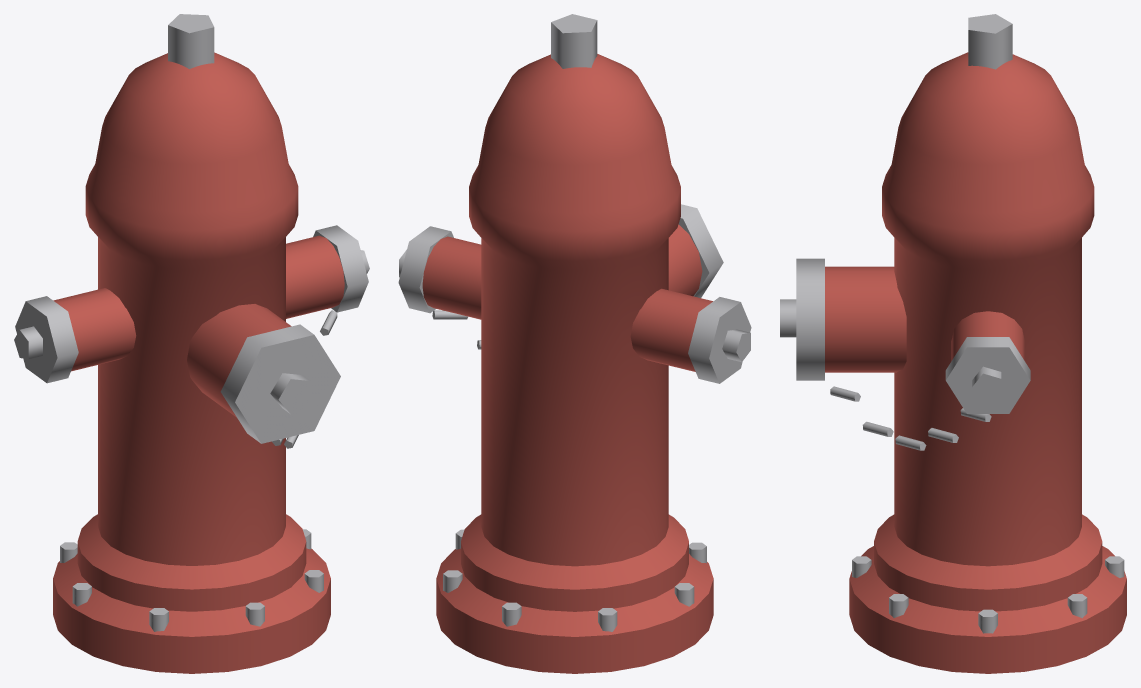
File: hydrant.glb
3 renders of one model, left to right at view 1: azimuth 30°, elevation 25°; view 2: azimuth 150°, elevation 25°; view 3: azimuth 270°, elevation 25°, orthographic.
Visible parts, largest first — view 1: hydrant; view 2: hydrant; view 3: hydrant.
Part boxes in pixels (x1,y1,x2,y2): hydrant: (14,14,369,673); hydrant: (398,14,751,673); hydrant: (780,14,1126,673).
Bounding box in the file's own units: 0.48 × 0.8 × 0.425.
